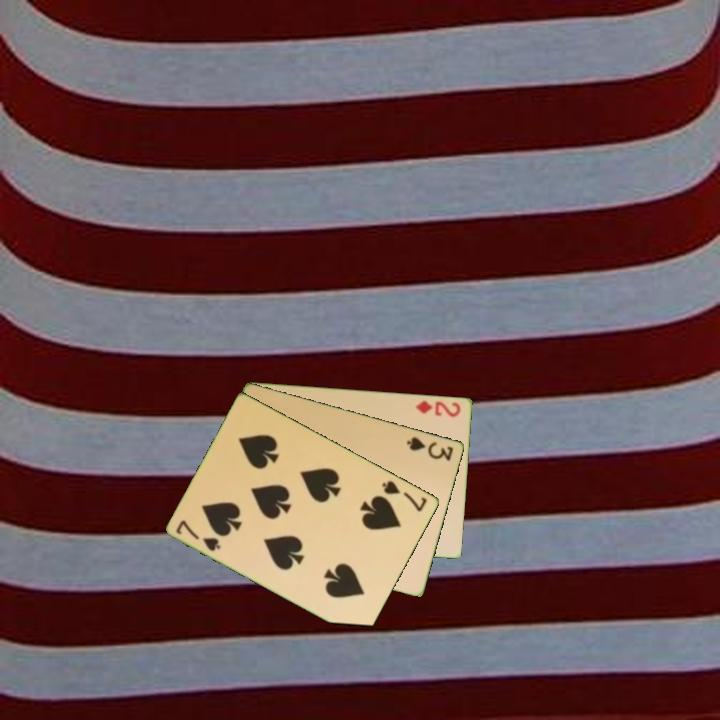2d: (412, 397, 464, 420)
3s: (403, 433, 456, 464)
7s: (378, 476, 431, 514), (173, 516, 224, 554)
